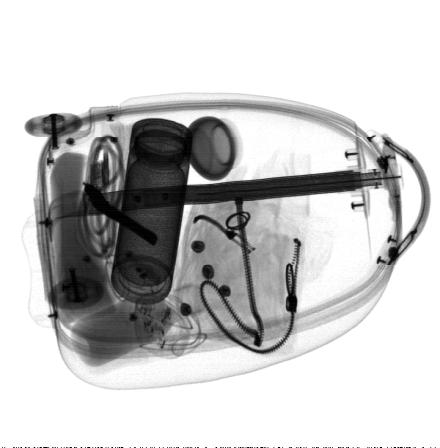Gun: (84, 183, 159, 247)
